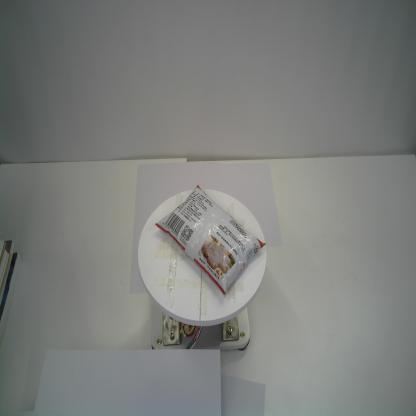Seasoner: (153, 180, 269, 298)
